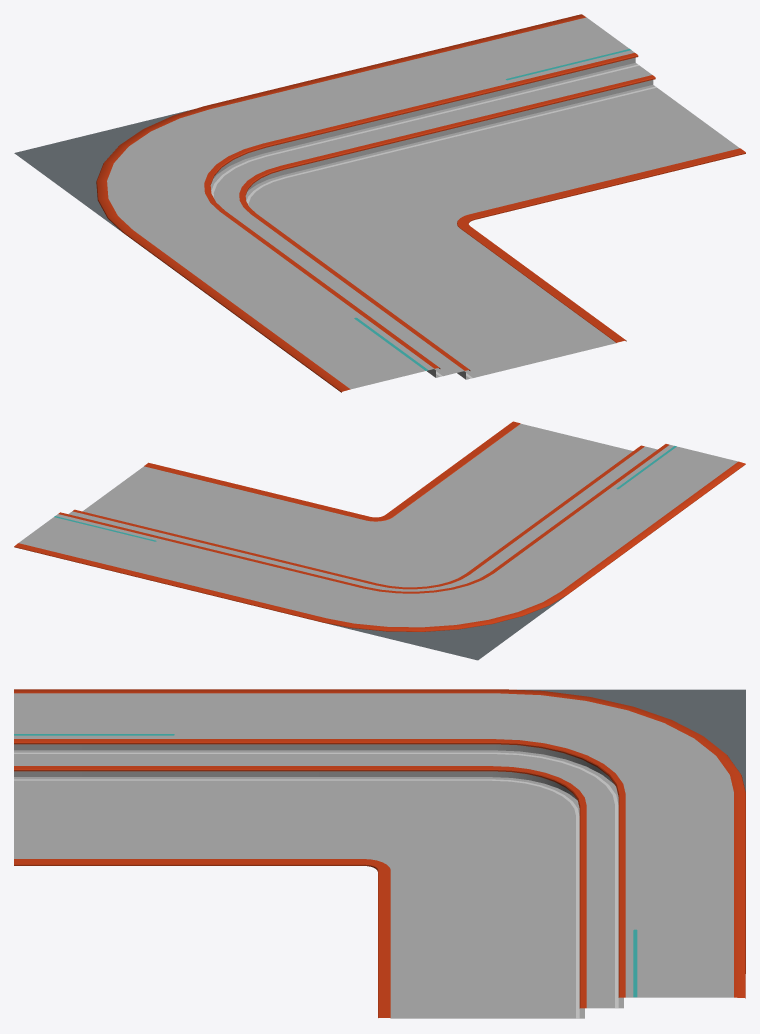
File: W_O_Cafe_Stairs_001_a_L0.fbx
3 renders of one model, top to bottom at view 1: azimuth 30°, elevation 25°; view 2: azimuth 150°, elevation 25°; view 3: azimuth 270°, elevation 25°, orthographic. The views are drawn at different scales.
Parts seen in each view (by area): view 1: W_O_Cafe_Stairs_001_a_L0; view 2: W_O_Cafe_Stairs_001_a_L0; view 3: W_O_Cafe_Stairs_001_a_L0.
Boxes of the visible parts, x1,y1,x2,y2 form: W_O_Cafe_Stairs_001_a_L0: (14, 14, 745, 392); W_O_Cafe_Stairs_001_a_L0: (14, 421, 745, 660); W_O_Cafe_Stairs_001_a_L0: (14, 689, 745, 1018).
Bounding box in the file's own units: 16 × 16 × 0.5386.
